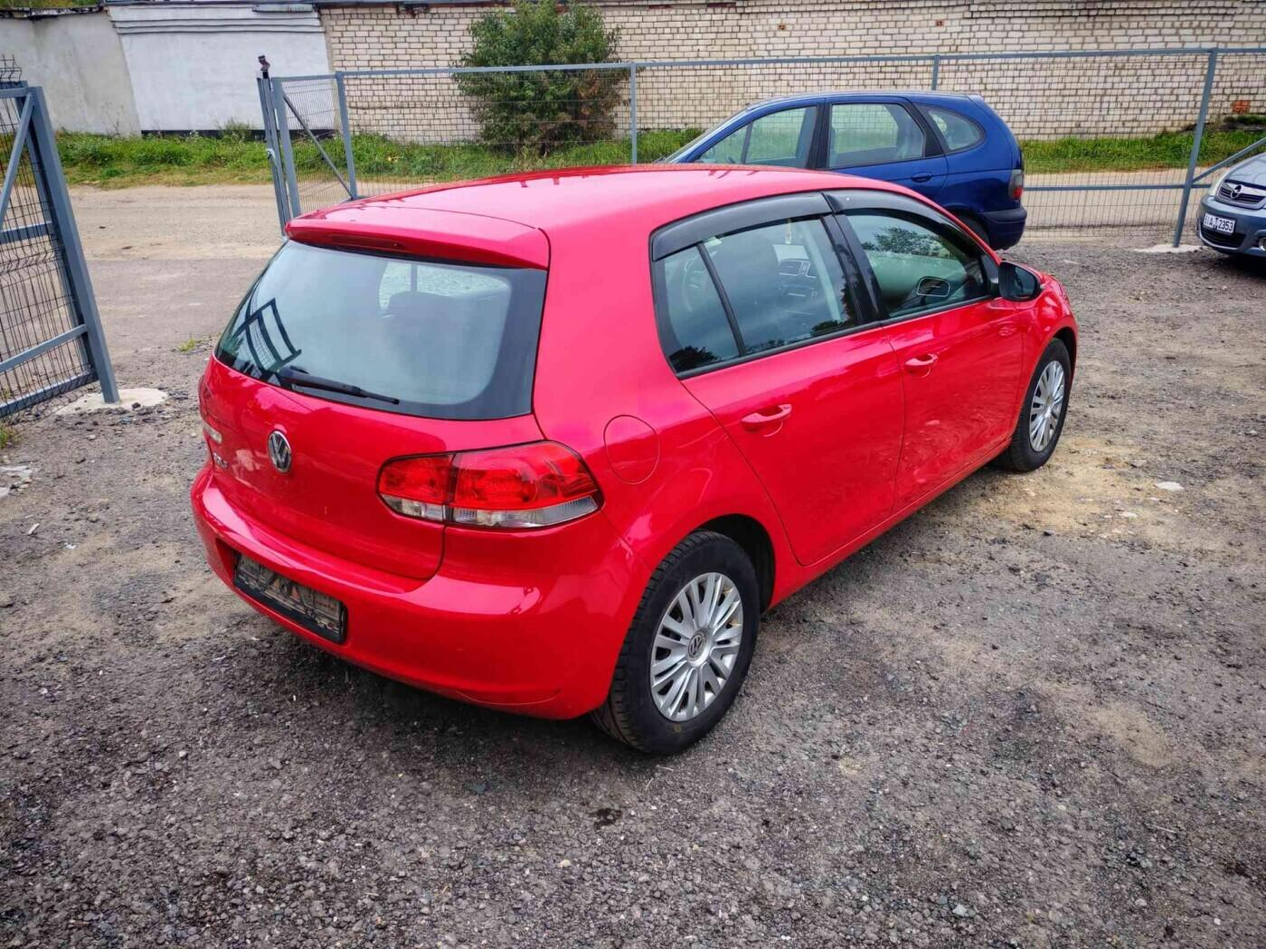Golf_2008-2013: (186, 158, 1079, 752)
